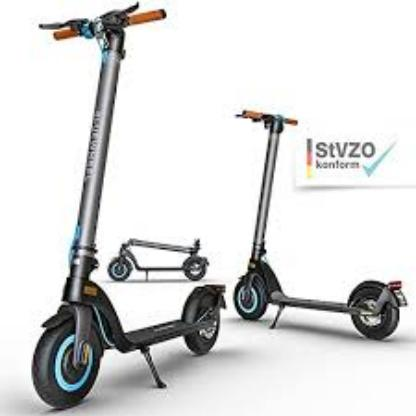bike: (232, 110, 412, 342)
